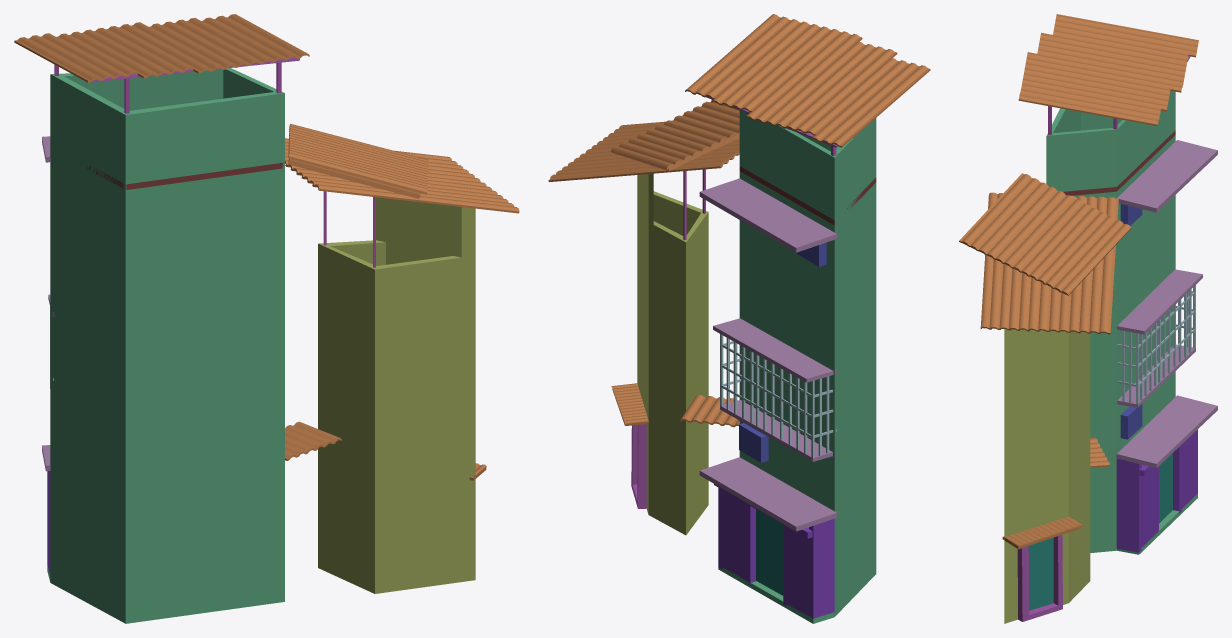
Rendered from house2.fbx.
The picture shows the model from 3 angles, left to right: view 1: azimuth 30°, elevation 25°; view 2: azimuth 150°, elevation 25°; view 3: azimuth 270°, elevation 25°; orthographic projection. The views are drawn at different scales.
Visible parts, largest first — view 1: wall3, wall, wall2, wall4, wall5, balcony31, balcony3, balcony30, balcony32, ground; view 2: wall3, balcony31, wall4, wall, wall2, wall5, balcony3, balcony5, cilling, balcony30, balcony4, door_wall (+9 smaller); view 3: balcony31, wall4, wall3, balcony3, balcony30, wall5, wall, wall2, cilling, balcony5, door_wall5, balcony4 (+11 smaller).
Part boxes in pixels (x1,y1,x2,y2): wall3: (50,68,284,330); wall: (50,286,284,475); wall2: (47,435,284,623); wall4: (318,197,475,445); wall5: (318,416,475,593); balcony31: (14,14,309,82); balcony3: (288,124,428,198); balcony30: (285,138,519,213); balcony32: (285,421,341,460); ground: (81,161,283,189); wall3: (739,110,876,353); balcony31: (685,14,930,147); wall4: (637,173,708,402); wall: (739,295,876,483); wall2: (718,441,876,623); wall5: (637,344,708,535); balcony3: (611,99,739,171); balcony5: (699,178,836,252); cilling: (699,457,836,531); balcony30: (548,121,739,181); balcony4: (713,318,836,382); door_wall: (809,518,834,618); balcony31: (1018,14,1198,126); wall4: (1004,329,1090,501); wall3: (1046,91,1175,307); balcony3: (959,173,1131,295); balcony30: (980,192,1118,334); wall5: (1004,459,1090,623); wall: (1090,253,1175,430); wall2: (1090,372,1197,554); cilling: (1116,395,1217,468); balcony5: (1116,140,1217,212); door_wall5: (1116,458,1141,552); balcony4: (1117,269,1202,334).
Size of the model in its own units: 856 by 1185 by 593.
